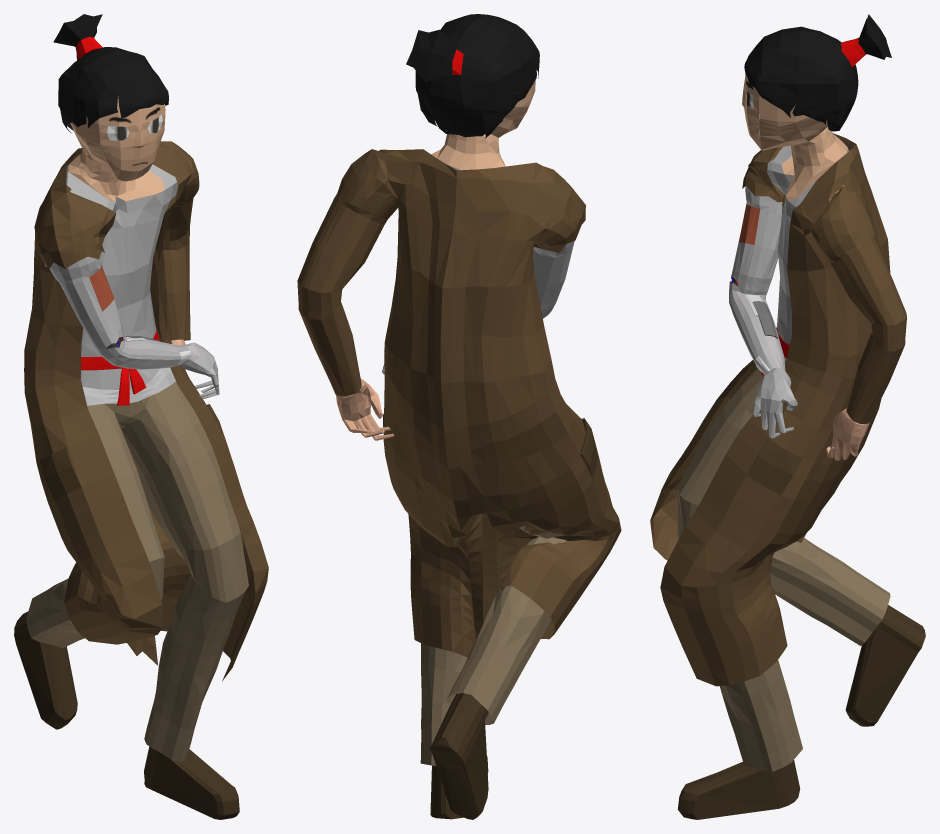
Rendered from One_RB_000006.obj.
3 renders of one model, left to right at view 1: azimuth 30°, elevation 25°; view 2: azimuth 150°, elevation 25°; view 3: azimuth 270°, elevation 25°, orthographic. The views are drawn at different scales.
Visible parts, largest first — view 1: Hair_Cube.004; view 2: Hair_Cube.004; view 3: Hair_Cube.004.
Part boxes in pixels (bbox=[...]): Hair_Cube.004: bbox=[14, 14, 268, 819]; Hair_Cube.004: bbox=[297, 14, 621, 819]; Hair_Cube.004: bbox=[650, 14, 925, 819].
Size of the model in its own units: 1.06 by 3.77 by 1.23.
